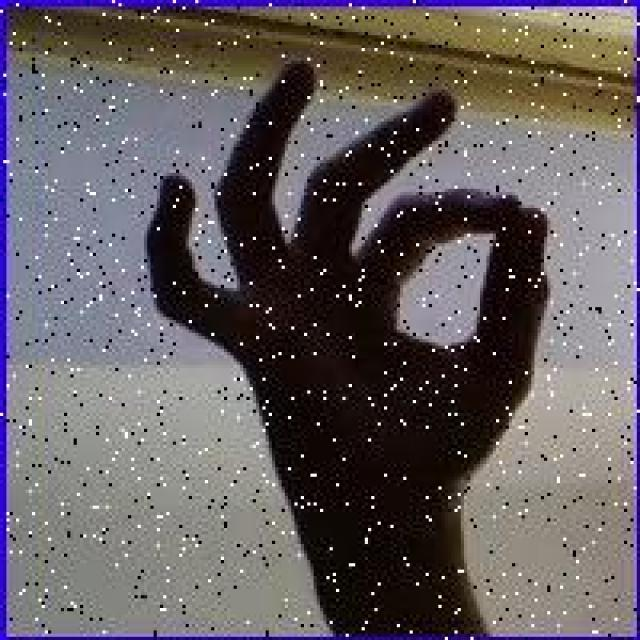F: (144, 58, 560, 492)
